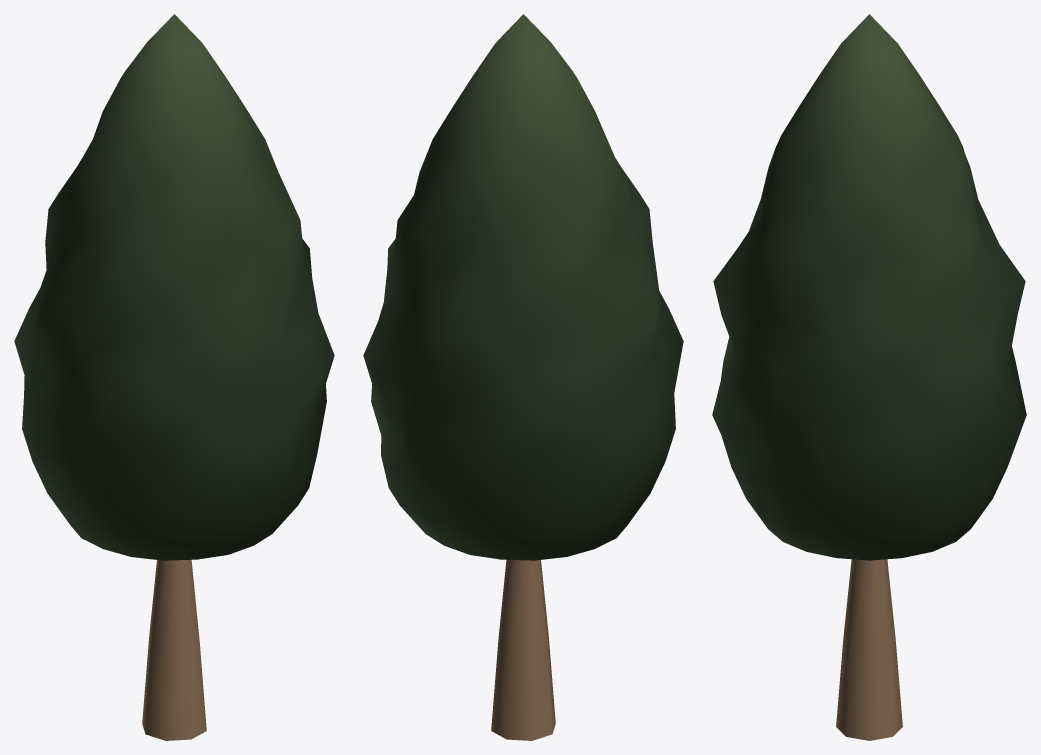
The picture shows the model from 3 angles, left to right: view 1: azimuth 30°, elevation 25°; view 2: azimuth 150°, elevation 25°; view 3: azimuth 270°, elevation 25°; orthographic projection.
Parts seen in each view (by area): view 1: 461; view 2: 461; view 3: 461.
Boxes of the visible parts, left/top/right/bottom form: 461: left=14, top=14, right=334, bottom=740; 461: left=363, top=14, right=683, bottom=740; 461: left=712, top=14, right=1026, bottom=740.
Bounding box in the file's own units: 3.2 × 8 × 3.2.
